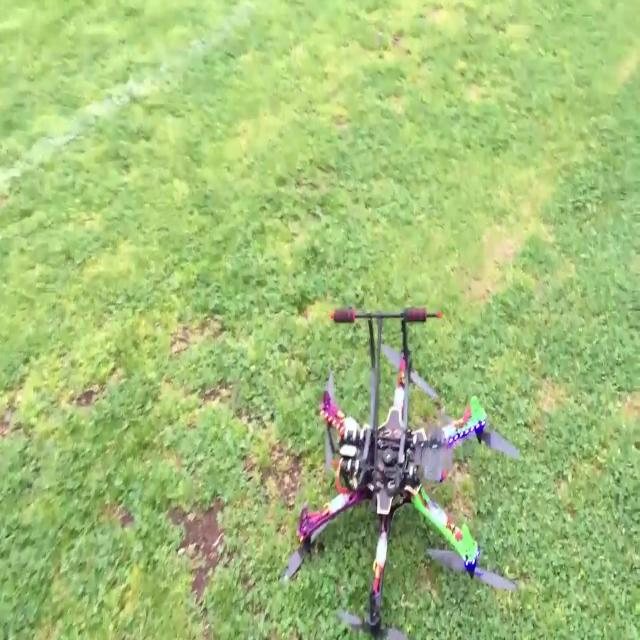drone: (251, 304, 520, 636)
